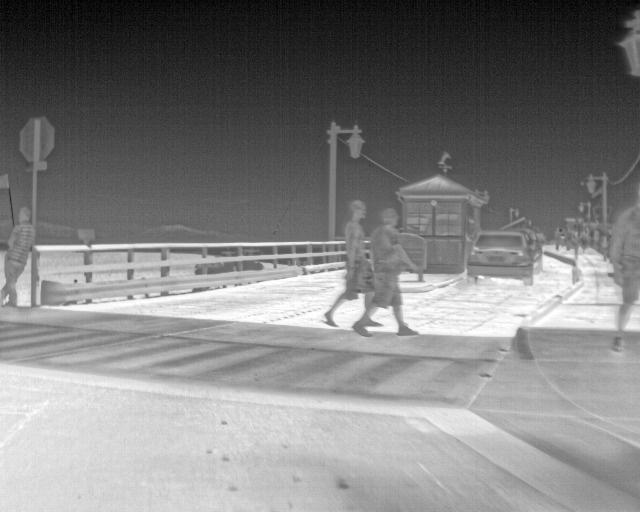bicycle: (465, 227, 534, 286), (522, 229, 544, 268)
empty: (352, 207, 420, 337), (318, 198, 369, 326), (604, 185, 639, 354), (1, 208, 35, 308), (579, 226, 593, 253), (550, 225, 564, 252)
